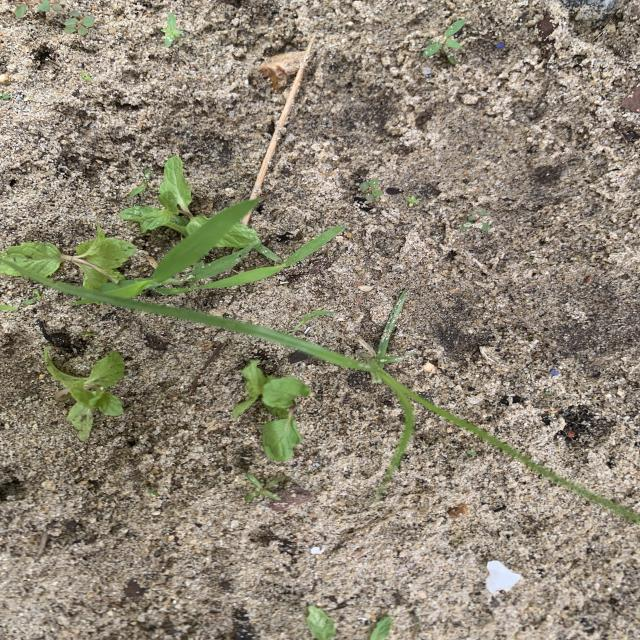crop: (0, 224, 149, 297), (233, 360, 312, 462), (43, 347, 124, 440), (120, 156, 206, 236), (217, 223, 261, 248)
weed: (233, 323, 640, 524), (200, 226, 345, 289), (153, 200, 258, 286), (14, 0, 97, 37), (244, 473, 307, 512), (423, 19, 465, 66), (95, 278, 191, 298), (354, 179, 383, 212), (161, 12, 183, 48), (231, 233, 259, 255), (193, 264, 226, 279), (405, 196, 419, 208), (424, 210, 434, 219)
